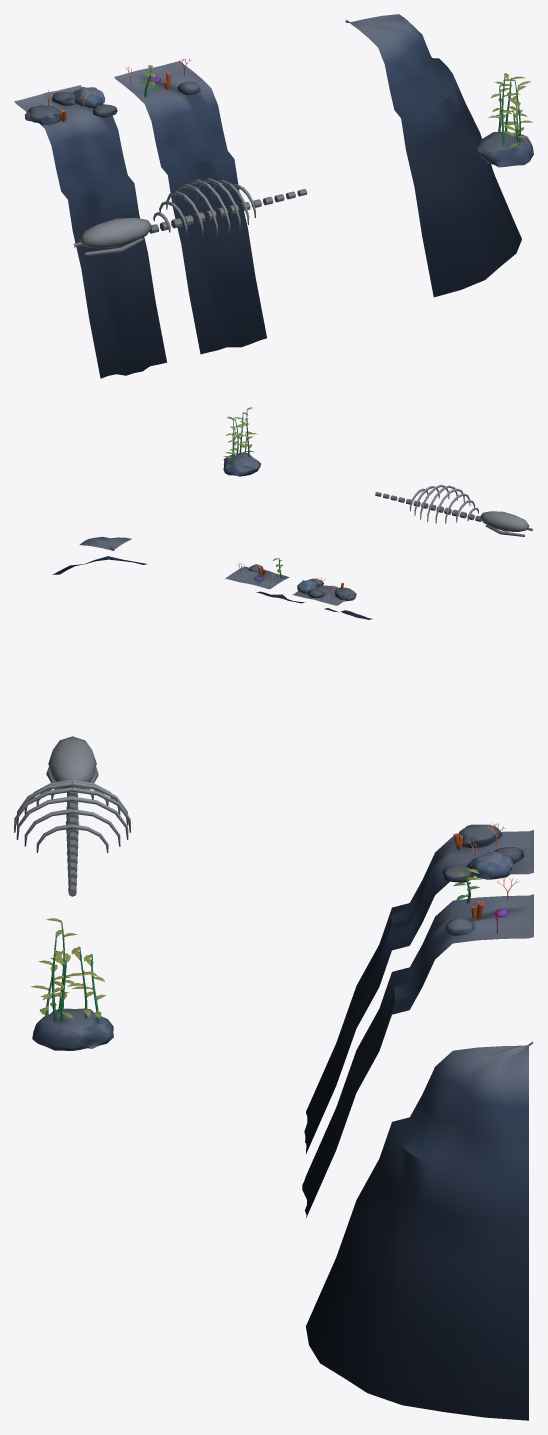
The model's file is map_backdrop_2.glb.
The picture shows the model from 3 angles, top to bottom: view 1: azimuth 30°, elevation 25°; view 2: azimuth 150°, elevation 25°; view 3: azimuth 270°, elevation 25°; orthographic projection. The views are drawn at different scales.
Parts seen in each view (by area): view 1: Corner, Edge2, Edge1, Whale, Kelp; view 2: Whale, Kelp, Edge1, Edge2, Corner; view 3: Corner, Edge1, Edge2, Whale, Kelp.
Boxes of the visible parts, x1,y1,x2,y2 form: Corner: [345, 14, 521, 297]; Edge2: [114, 58, 266, 354]; Edge1: [14, 85, 166, 378]; Whale: [73, 178, 307, 255]; Kelp: [477, 73, 533, 167]; Whale: [375, 484, 532, 536]; Kelp: [223, 407, 260, 476]; Edge1: [292, 577, 372, 619]; Edge2: [225, 558, 305, 603]; Corner: [52, 536, 147, 574]; Corner: [306, 1041, 532, 1420]; Edge1: [304, 823, 533, 1153]; Edge2: [302, 868, 533, 1217]; Whale: [14, 736, 130, 896]; Kelp: [30, 918, 113, 1050].
Bounding box in the file's own units: 17.71 × 8.65 × 10.25.
